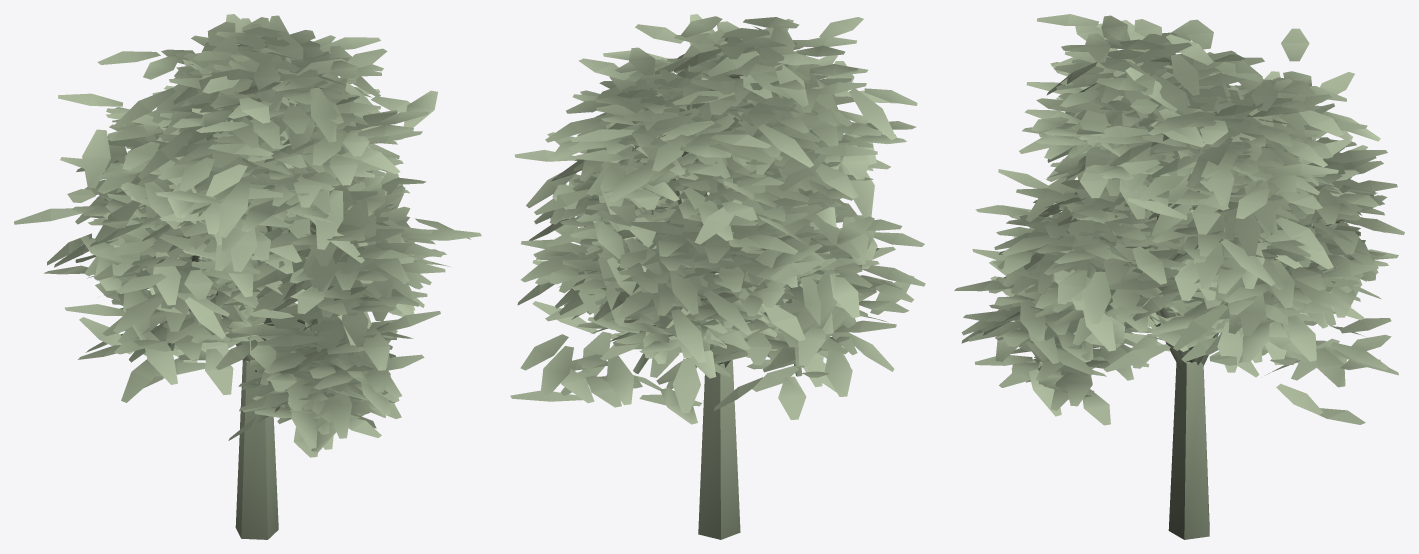
The model's file is tree_apple.glb.
3 views of the same model, side by side, from view 1: azimuth 30°, elevation 25°; view 2: azimuth 150°, elevation 25°; view 3: azimuth 270°, elevation 25° (orthographic).
Visible parts, largest first — view 1: tier2_foliage, tier1_foliage, tier0_foliage, tier0_bark; view 2: tier1_foliage, tier2_foliage, tier0_foliage, tier0_bark; view 3: tier2_foliage, tier1_foliage, tier0_foliage, tier0_bark.
Boxes of the visible parts, box(x1,y1,x2,y2) form: tier2_foliage: box(60, 15, 445, 457); tier1_foliage: box(44, 14, 481, 402); tier0_foliage: box(14, 28, 446, 356); tier0_bark: box(189, 255, 278, 539); tier1_foliage: box(510, 14, 925, 424); tier2_foliage: box(521, 17, 895, 387); tier0_foliage: box(546, 24, 896, 344); tier0_bark: box(698, 287, 791, 539); tier2_foliage: box(954, 15, 1404, 425); tier1_foliage: box(1013, 14, 1398, 424); tier0_foliage: box(1025, 19, 1359, 350); tier0_bark: box(1156, 216, 1209, 539).
Size of the model in its own units: 0.7793 by 1 by 0.8482.
